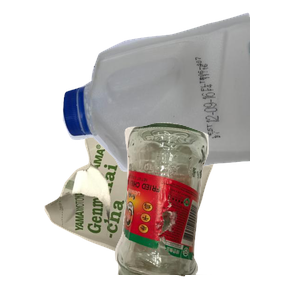glass: (112, 120, 300, 300)
metal: (99, 68, 244, 184)
plastic: (60, 10, 300, 175)
trash: (42, 126, 249, 300)
